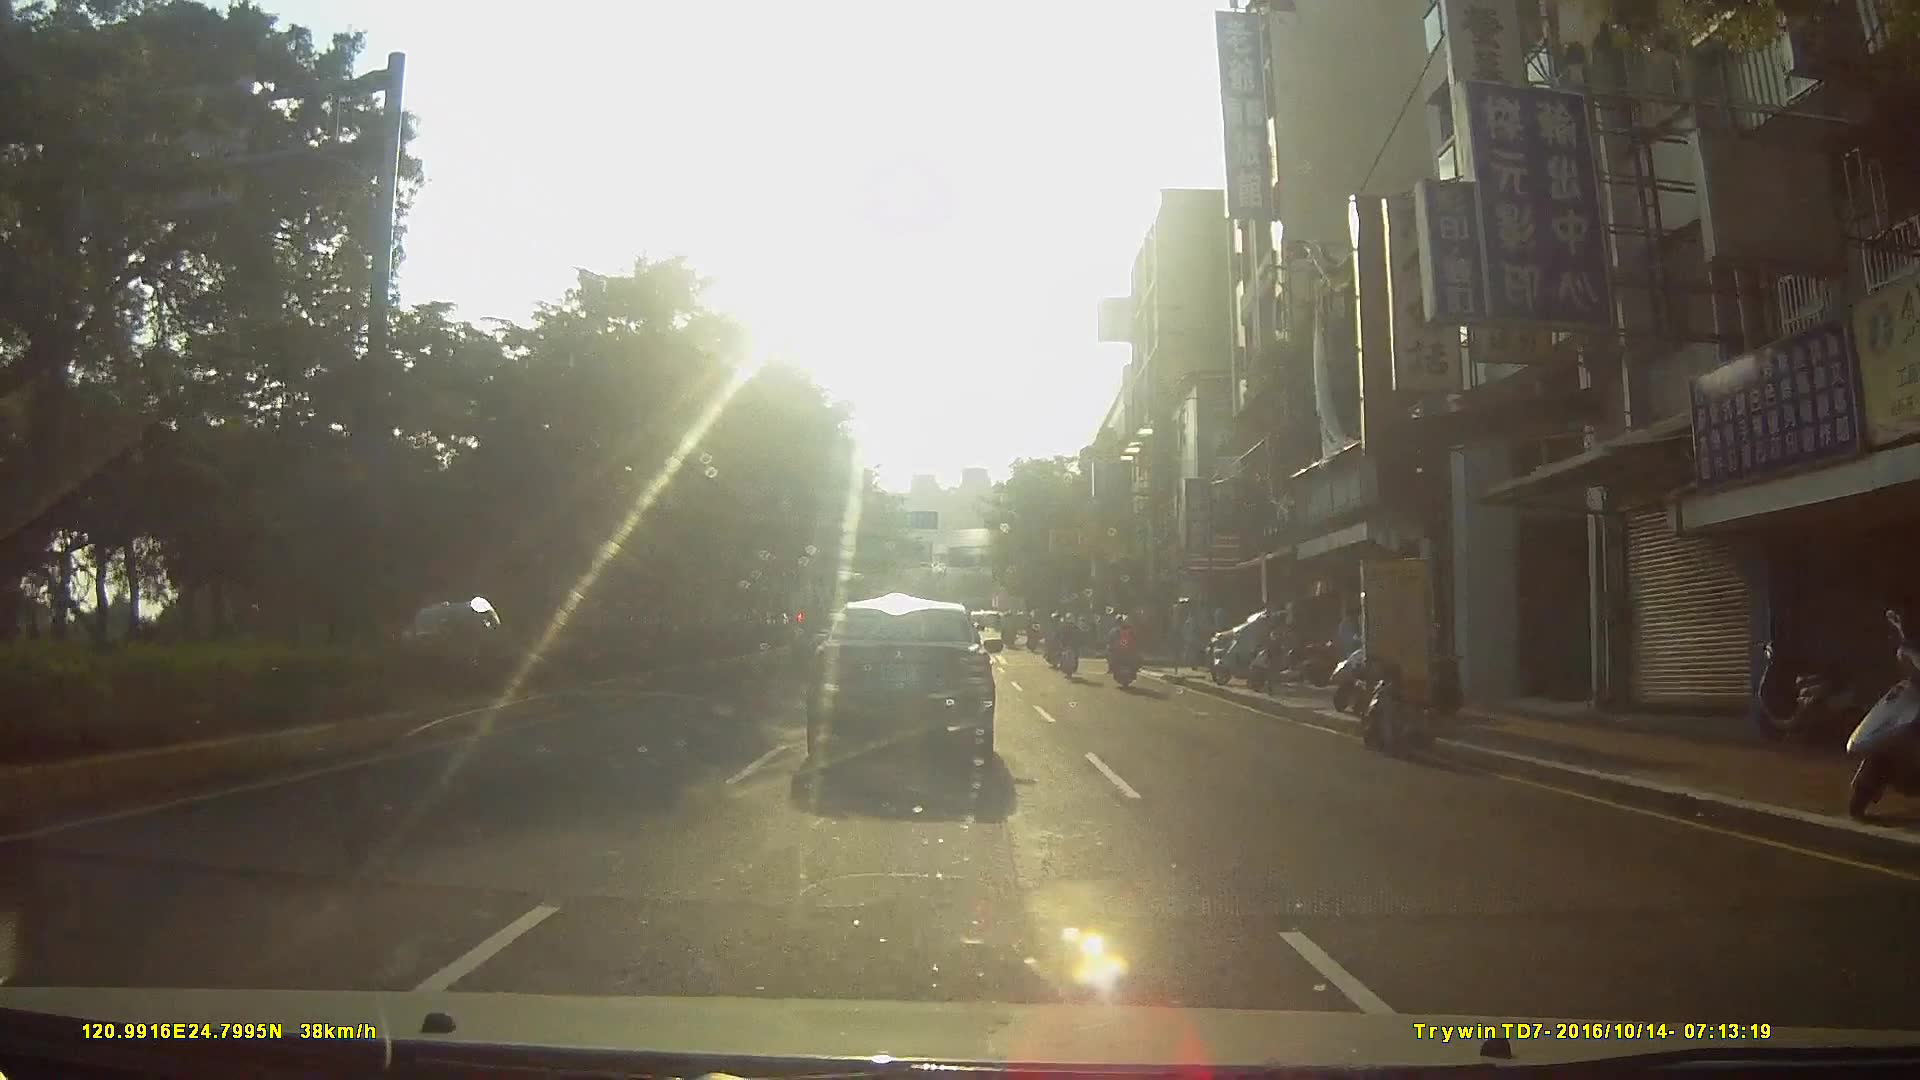rider: (1106, 615, 1139, 691), (1056, 612, 1083, 679), (1043, 613, 1067, 671)
vehicle: (803, 597, 1019, 788)
